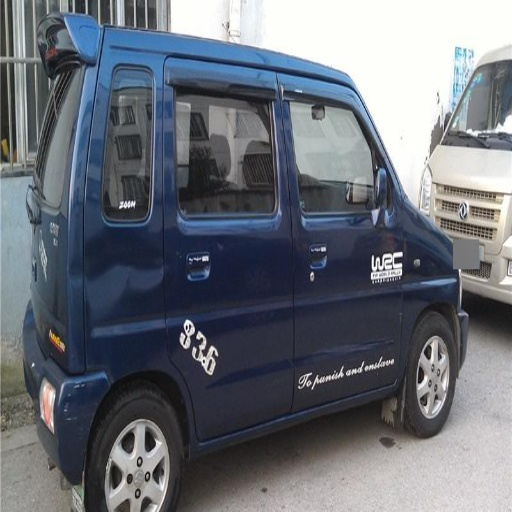trunk: (54, 234, 165, 354), (119, 91, 182, 162), (48, 388, 96, 449)
